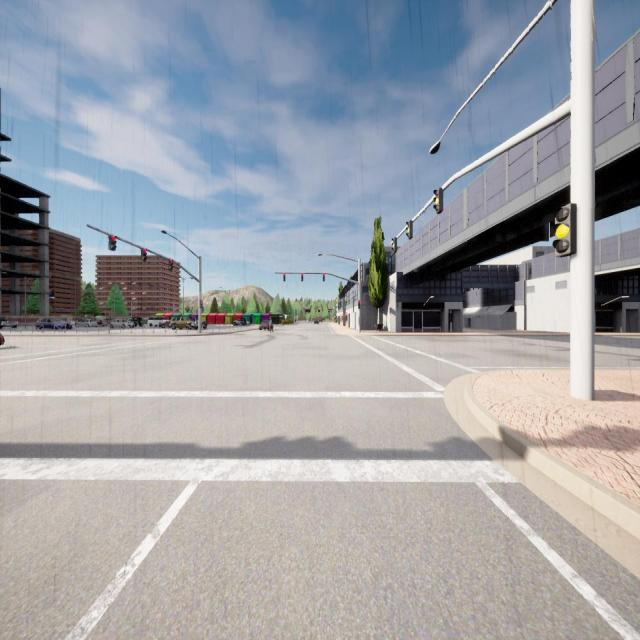Pedestrian: (268, 317, 274, 335)
Vehicle: (35, 315, 73, 330), (170, 315, 193, 330), (0, 314, 19, 330), (110, 318, 134, 329), (148, 316, 168, 328), (188, 320, 208, 330), (78, 318, 99, 327), (259, 320, 272, 330), (233, 317, 246, 326), (132, 317, 142, 327), (97, 320, 104, 327), (314, 319, 319, 325)
traffic_light: (552, 203, 576, 257), (433, 188, 443, 213), (406, 220, 413, 240), (108, 235, 116, 251), (392, 237, 397, 254), (141, 248, 147, 261), (169, 258, 173, 270), (200, 299, 203, 309), (283, 272, 285, 282), (323, 272, 325, 282), (358, 300, 360, 309), (301, 274, 303, 282)
